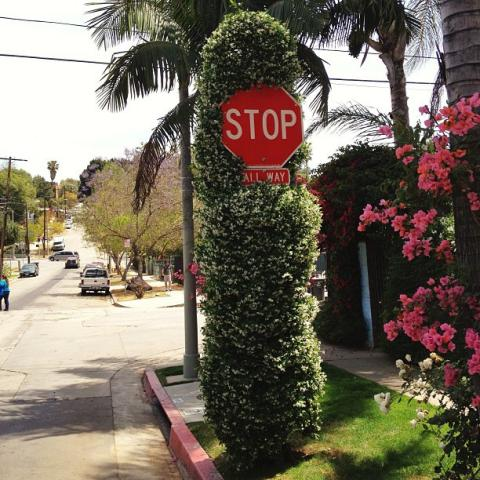car: (48, 251, 80, 261), (19, 263, 39, 277), (83, 264, 104, 274), (65, 257, 81, 269), (54, 241, 64, 250), (64, 222, 72, 229), (66, 219, 73, 224)
truck: (80, 268, 110, 296)
